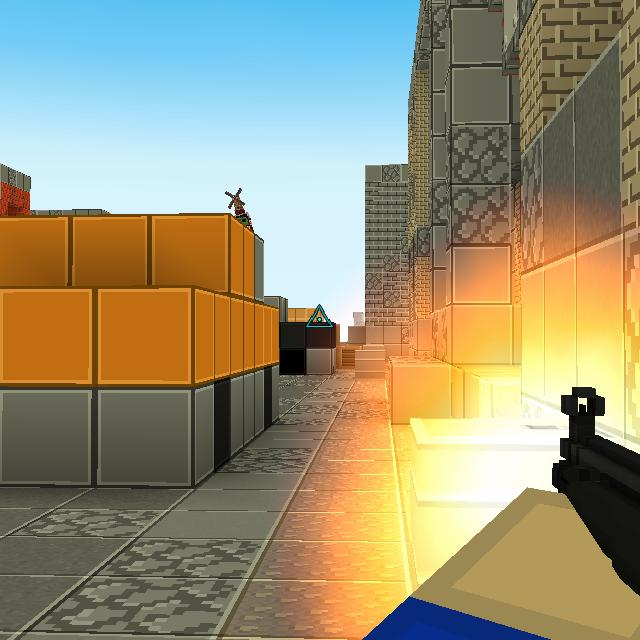enemy: (225, 193, 253, 230)
